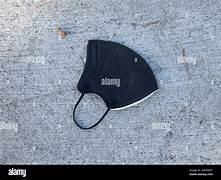Mask: (73, 40, 157, 128)
